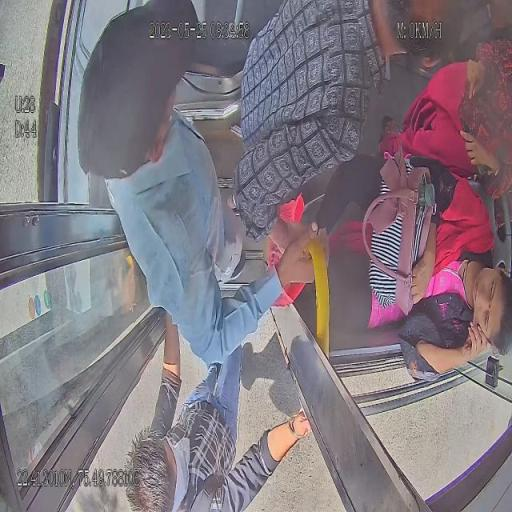persona: (76, 0, 330, 368), (236, 0, 450, 232), (304, 155, 511, 383), (123, 310, 313, 511), (377, 43, 512, 200)
